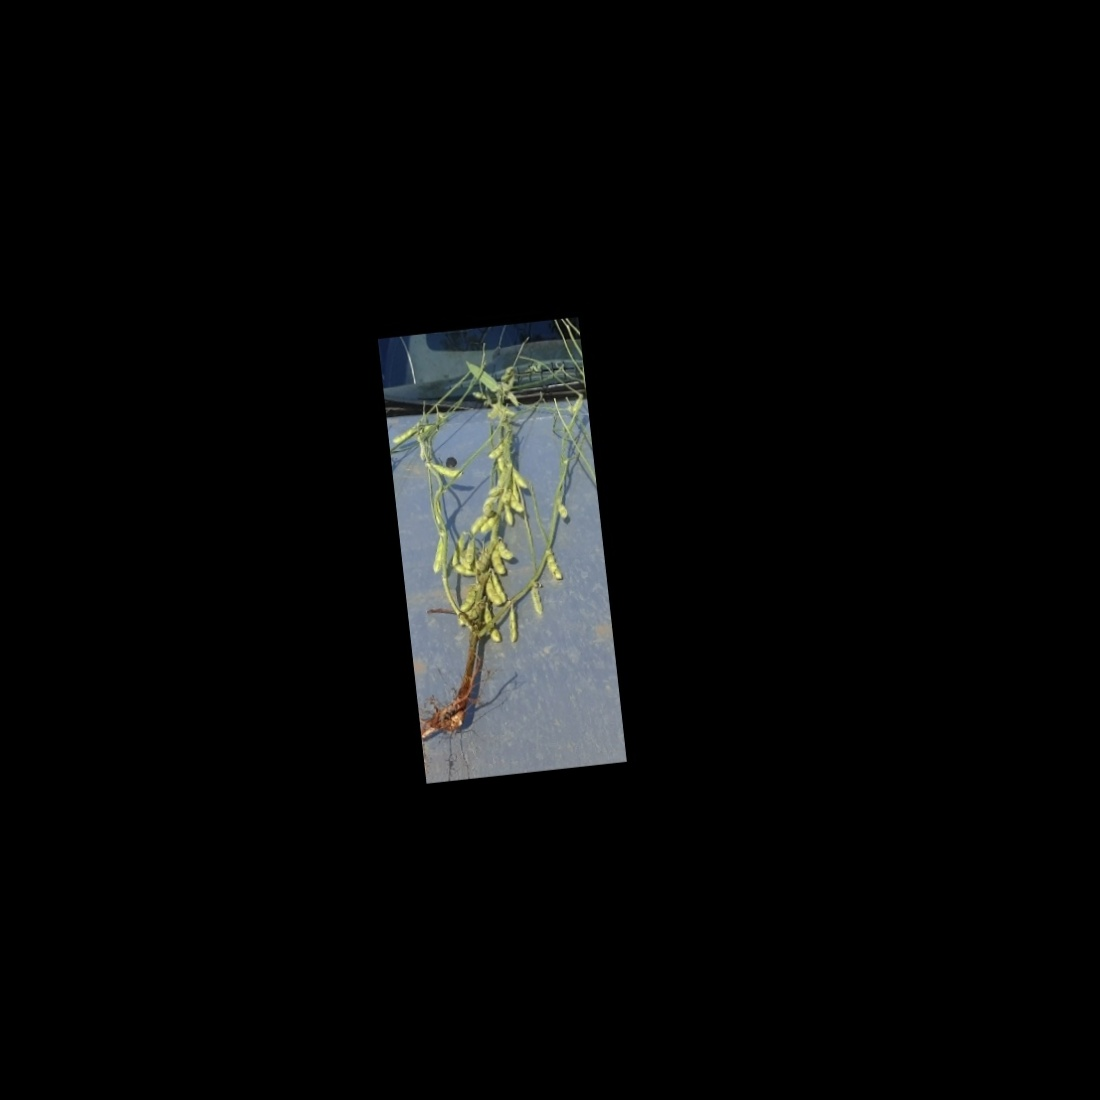pod: (426, 534, 448, 575), (542, 546, 564, 584), (503, 600, 521, 644), (428, 461, 465, 482), (486, 545, 509, 575), (528, 581, 546, 615), (493, 536, 516, 560)
soy: (385, 345, 617, 748)
